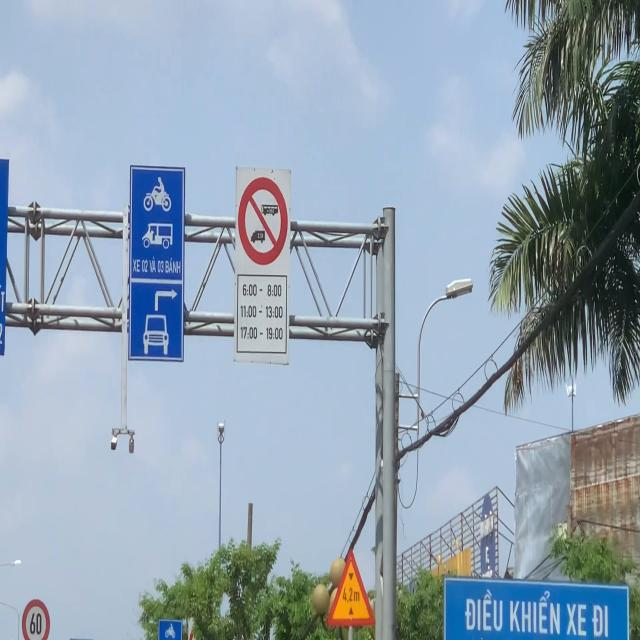Cam con lai: (238, 176, 288, 267)
Nguy hiem: (327, 548, 375, 627)
Toc do toi da: (22, 598, 50, 640)
